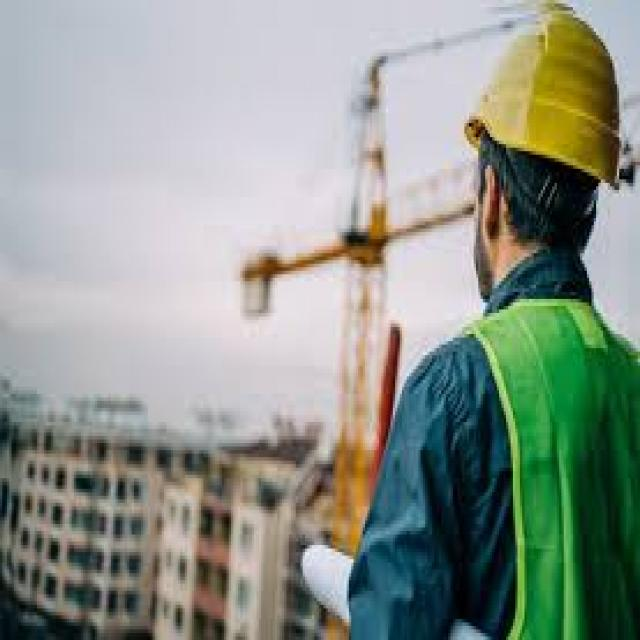Reflective-Jacket: (427, 285, 638, 636)
Safety-Helmet: (464, 7, 631, 193)
